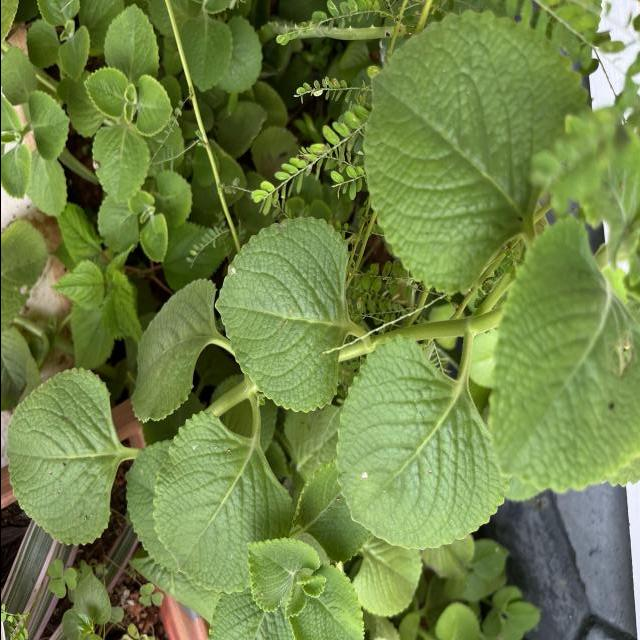Plectranthus barbatus: (360, 9, 595, 296), (487, 212, 640, 494), (332, 332, 510, 552), (212, 215, 352, 415), (151, 413, 295, 596), (3, 367, 123, 547), (129, 277, 221, 423), (350, 537, 424, 619), (244, 535, 320, 614), (289, 567, 367, 640), (90, 122, 150, 205), (103, 3, 161, 80), (180, 16, 233, 92), (218, 12, 264, 96), (24, 89, 71, 162), (82, 64, 128, 120), (135, 74, 173, 137)
